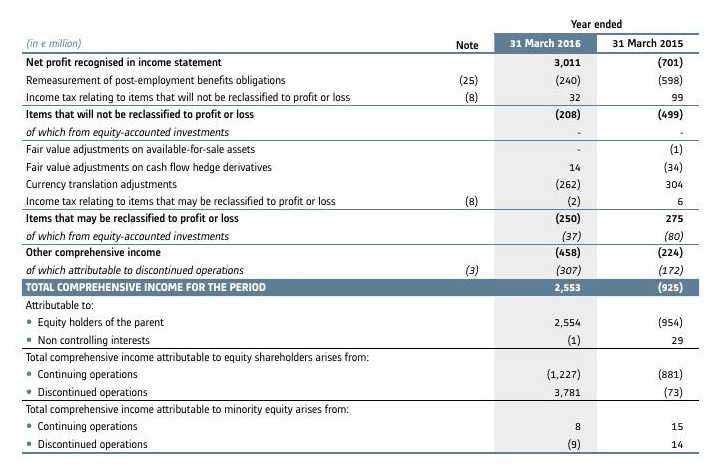table: (0, 0, 718, 475)
